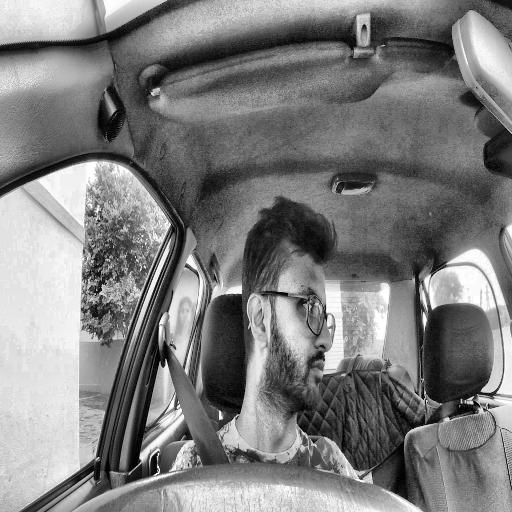awake: (241, 192, 337, 421)
